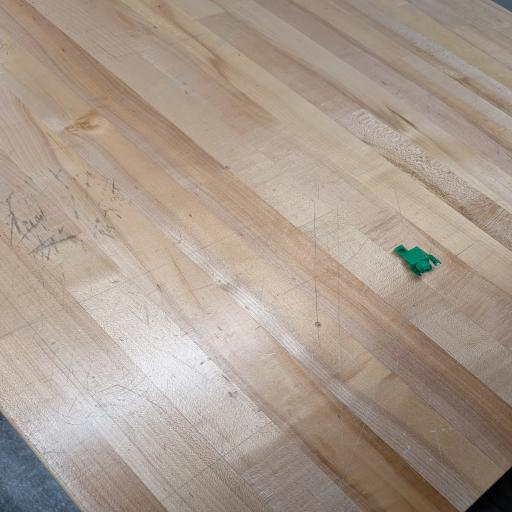Minifig: (394, 245, 440, 275)
